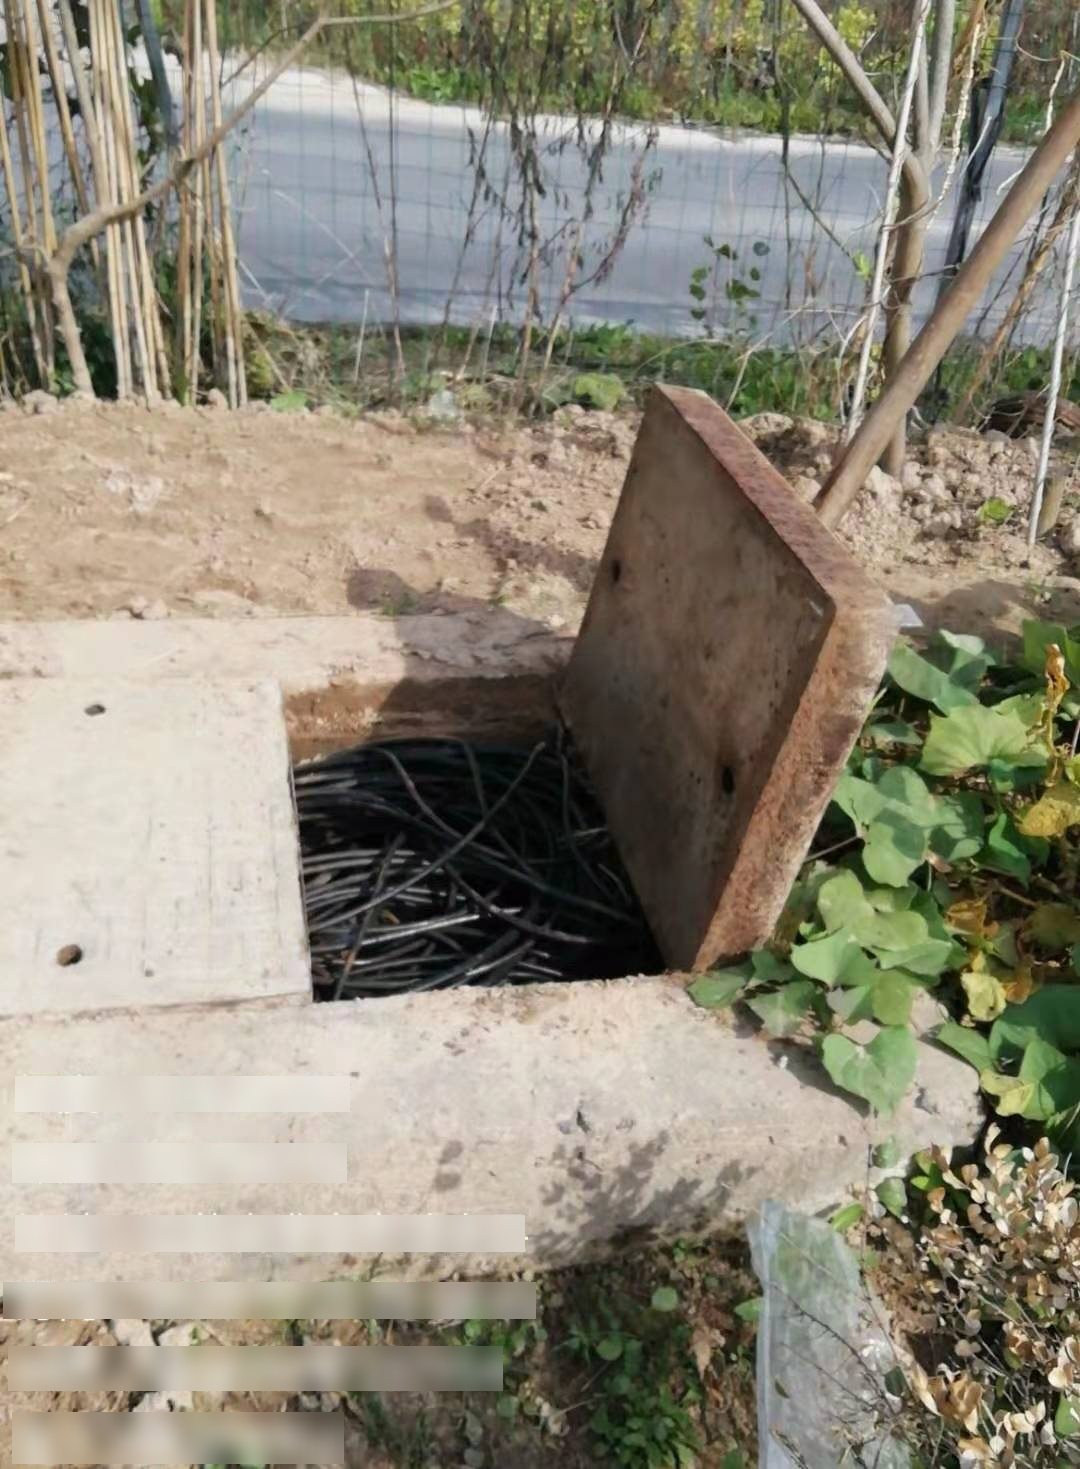well: (0, 381, 880, 1018)
